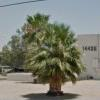Palm tree: (28, 12, 82, 98)
